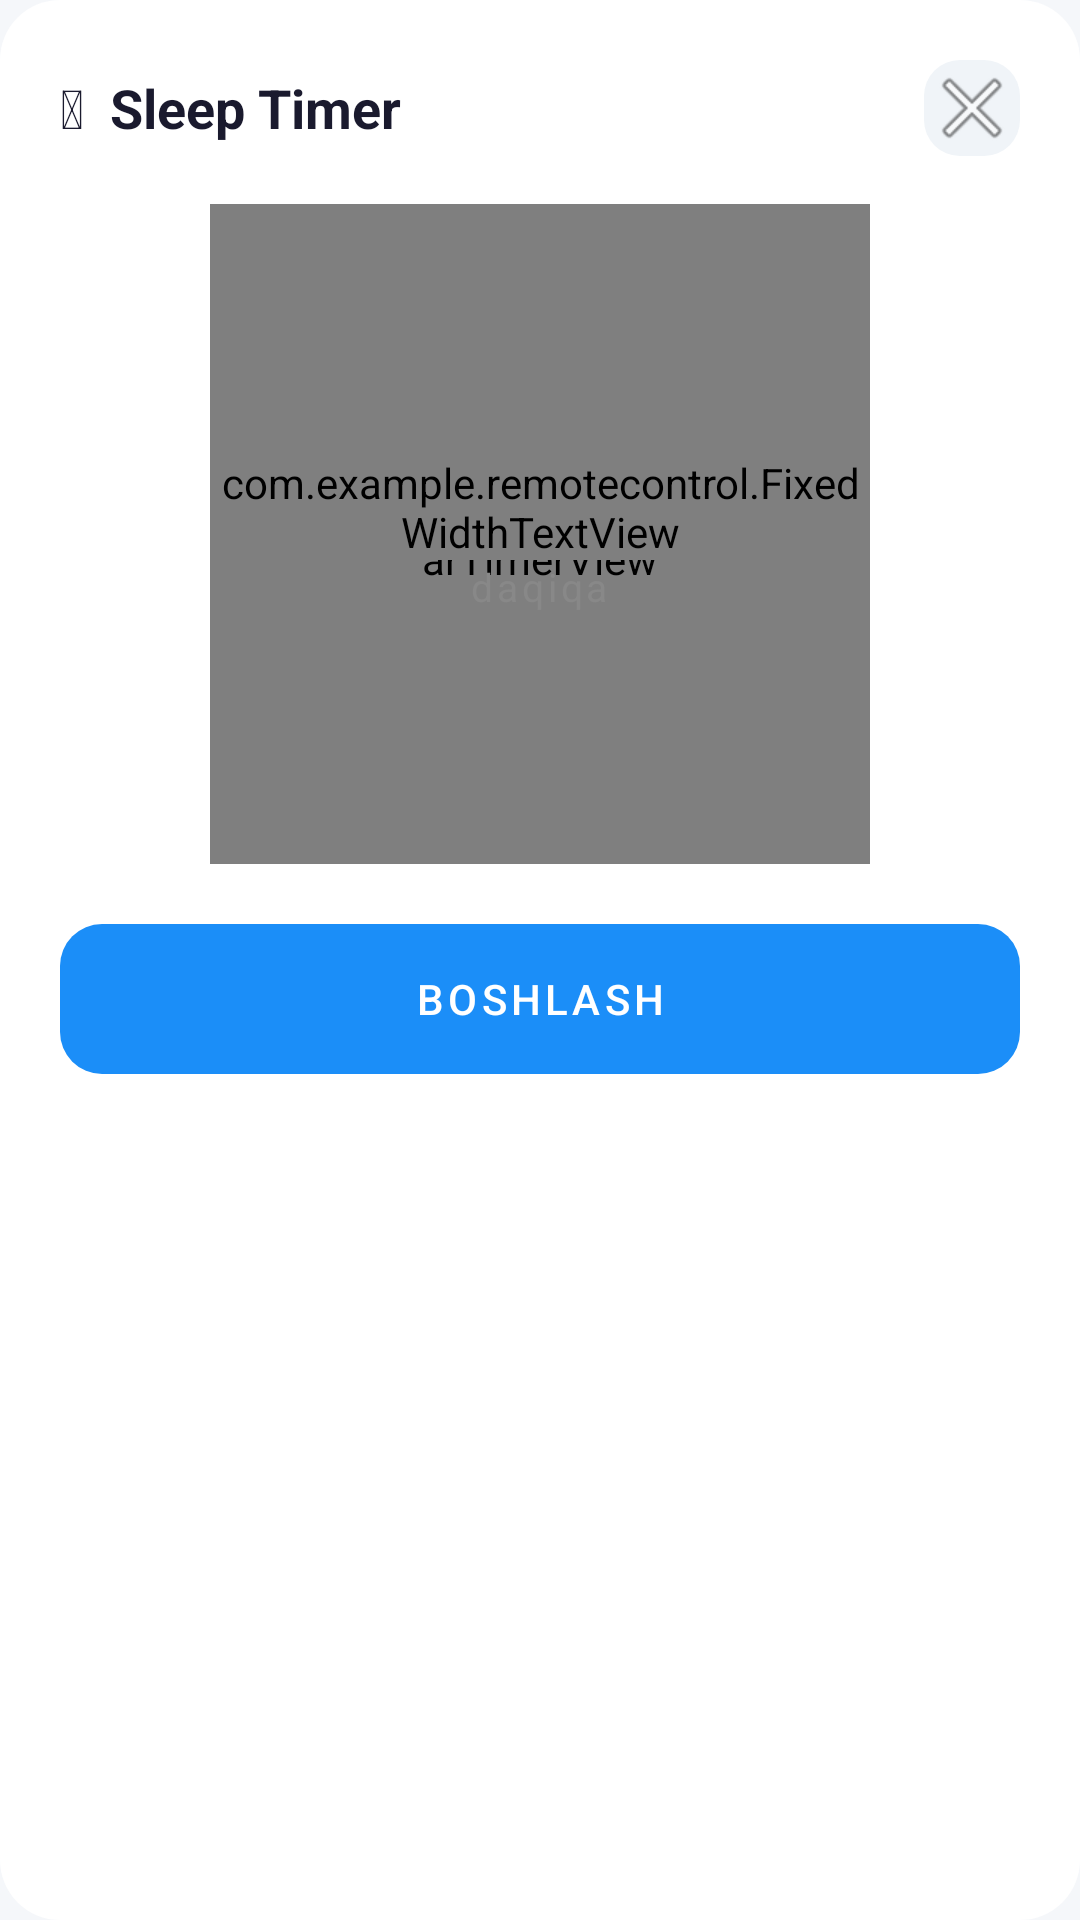

Screen size 1080px×1920px. Icon name, then its box in pixels as (x1, y1, x2, y2):
close clear cancel: (924, 60, 1020, 156)
